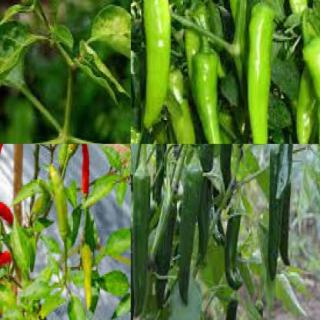green_chilli: (188, 51, 236, 143), (247, 5, 275, 143), (141, 0, 171, 125), (178, 166, 203, 307), (133, 168, 151, 320), (163, 67, 197, 143), (152, 202, 174, 311), (292, 59, 320, 143), (266, 150, 282, 281), (197, 144, 214, 262), (300, 39, 319, 143), (48, 167, 74, 241), (227, 0, 249, 68), (226, 211, 243, 294), (82, 235, 100, 307), (183, 8, 202, 72), (275, 144, 297, 199), (153, 143, 170, 204), (280, 184, 291, 266), (218, 144, 234, 196), (281, 0, 310, 18)
